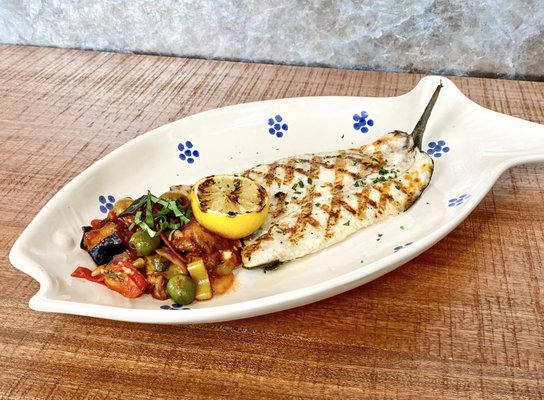curry: (1, 4, 535, 392)
sandwich: (221, 129, 435, 269)
